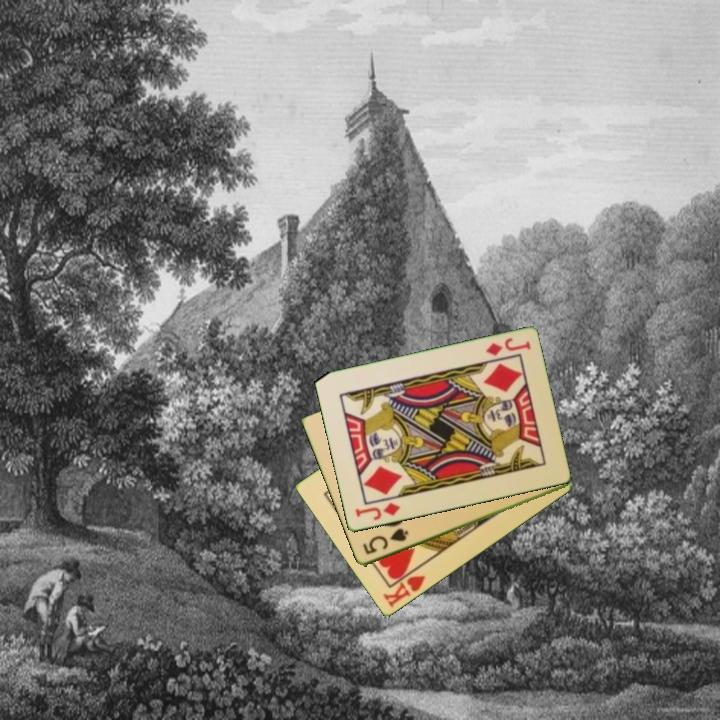5s: (359, 525, 412, 558)
Jd: (482, 334, 533, 359), (351, 499, 403, 523)
Kh: (380, 563, 428, 611)
